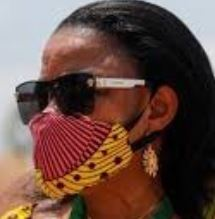with_facemask: (17, 107, 120, 190)
